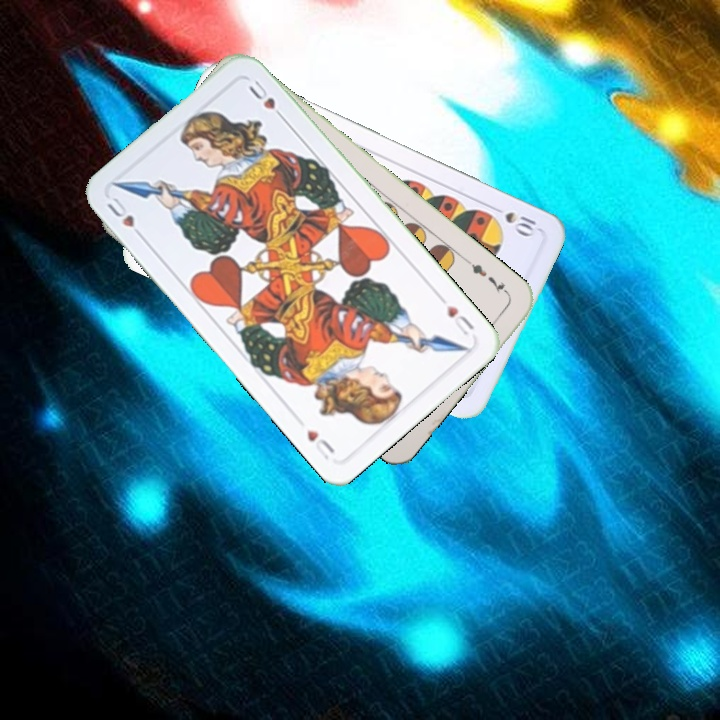E7: (463, 256, 512, 299)
HU: (103, 191, 147, 243), (442, 301, 477, 339)
S10: (486, 201, 542, 239)
